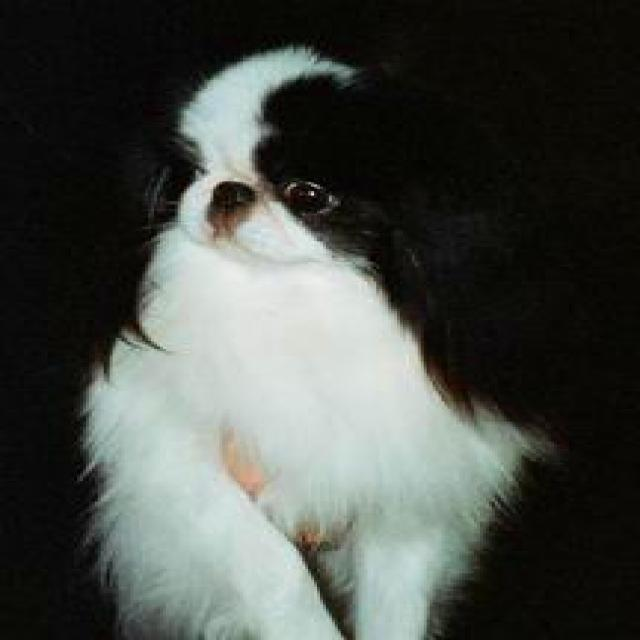husky: (77, 49, 548, 638)
